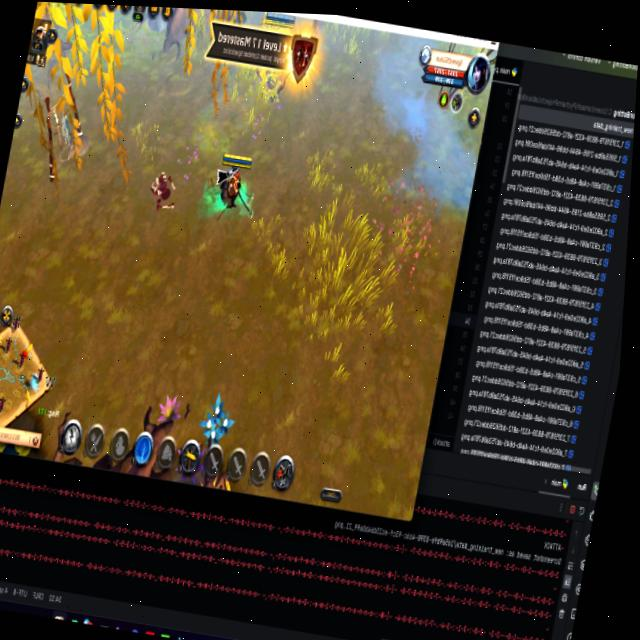hide: (190, 386, 240, 461)
red: (186, 144, 266, 248), (260, 12, 298, 30)
